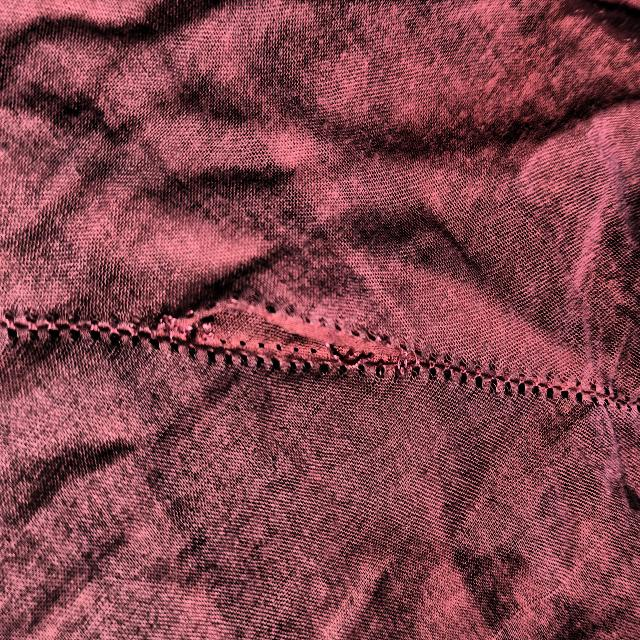seam: (150, 269, 425, 409)
